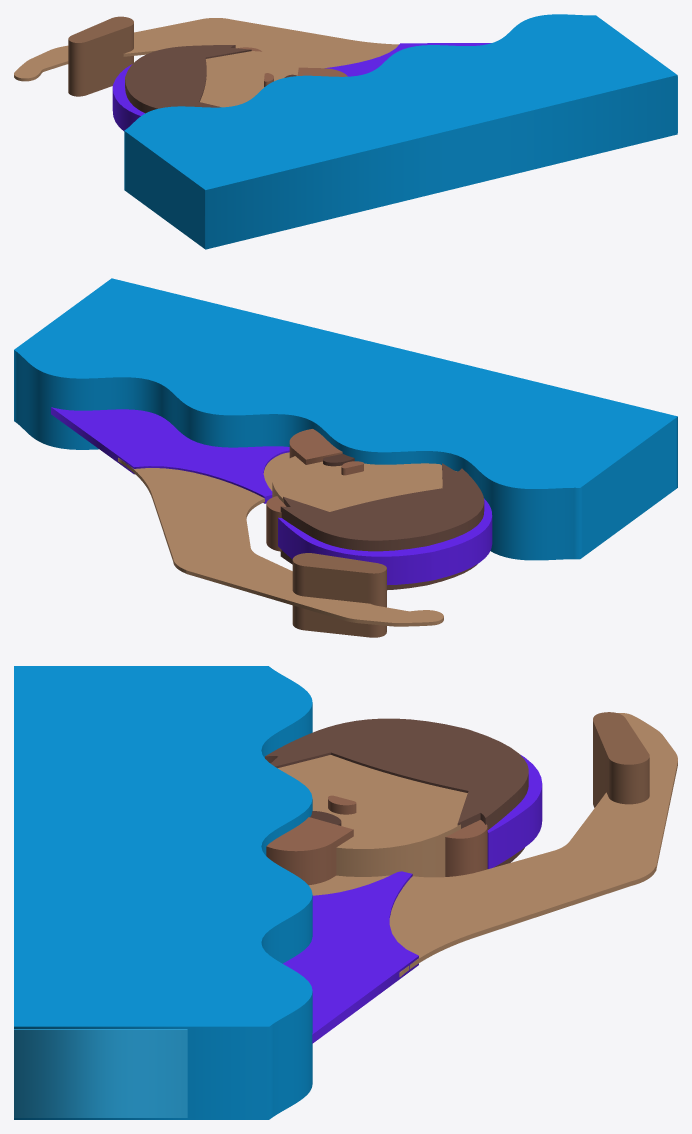
File: emoji_u1f3ca_1f3fd_200d_2640.glb
The picture shows the model from 3 angles, top to bottom: view 1: azimuth 30°, elevation 25°; view 2: azimuth 150°, elevation 25°; view 3: azimuth 270°, elevation 25°; orthographic projection. The views are drawn at different scales.
Visible parts, largest first — view 1: emoji_u1f3ca_1f3fd_200d_2640; view 2: emoji_u1f3ca_1f3fd_200d_2640; view 3: emoji_u1f3ca_1f3fd_200d_2640.
Boxes of the visible parts, x1=… form: emoji_u1f3ca_1f3fd_200d_2640: x1=14, y1=14, x2=677, y2=249; emoji_u1f3ca_1f3fd_200d_2640: x1=14, y1=278, x2=677, y2=637; emoji_u1f3ca_1f3fd_200d_2640: x1=14, y1=666, x2=677, y2=1119.
Size of the model in its own units: 0.0333 by 0.004 by 0.0258.
